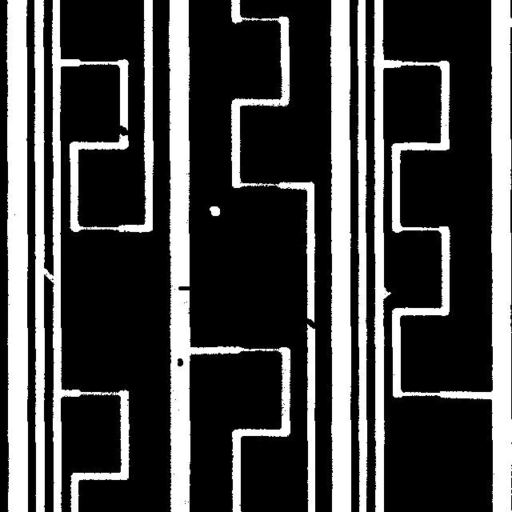copper: (170, 350, 190, 374)
mousebite: (372, 279, 398, 306)
open: (34, 260, 62, 290)
pin-hole: (202, 198, 227, 223)
short: (104, 111, 137, 143), (297, 310, 324, 336)
spur: (170, 278, 203, 298)
